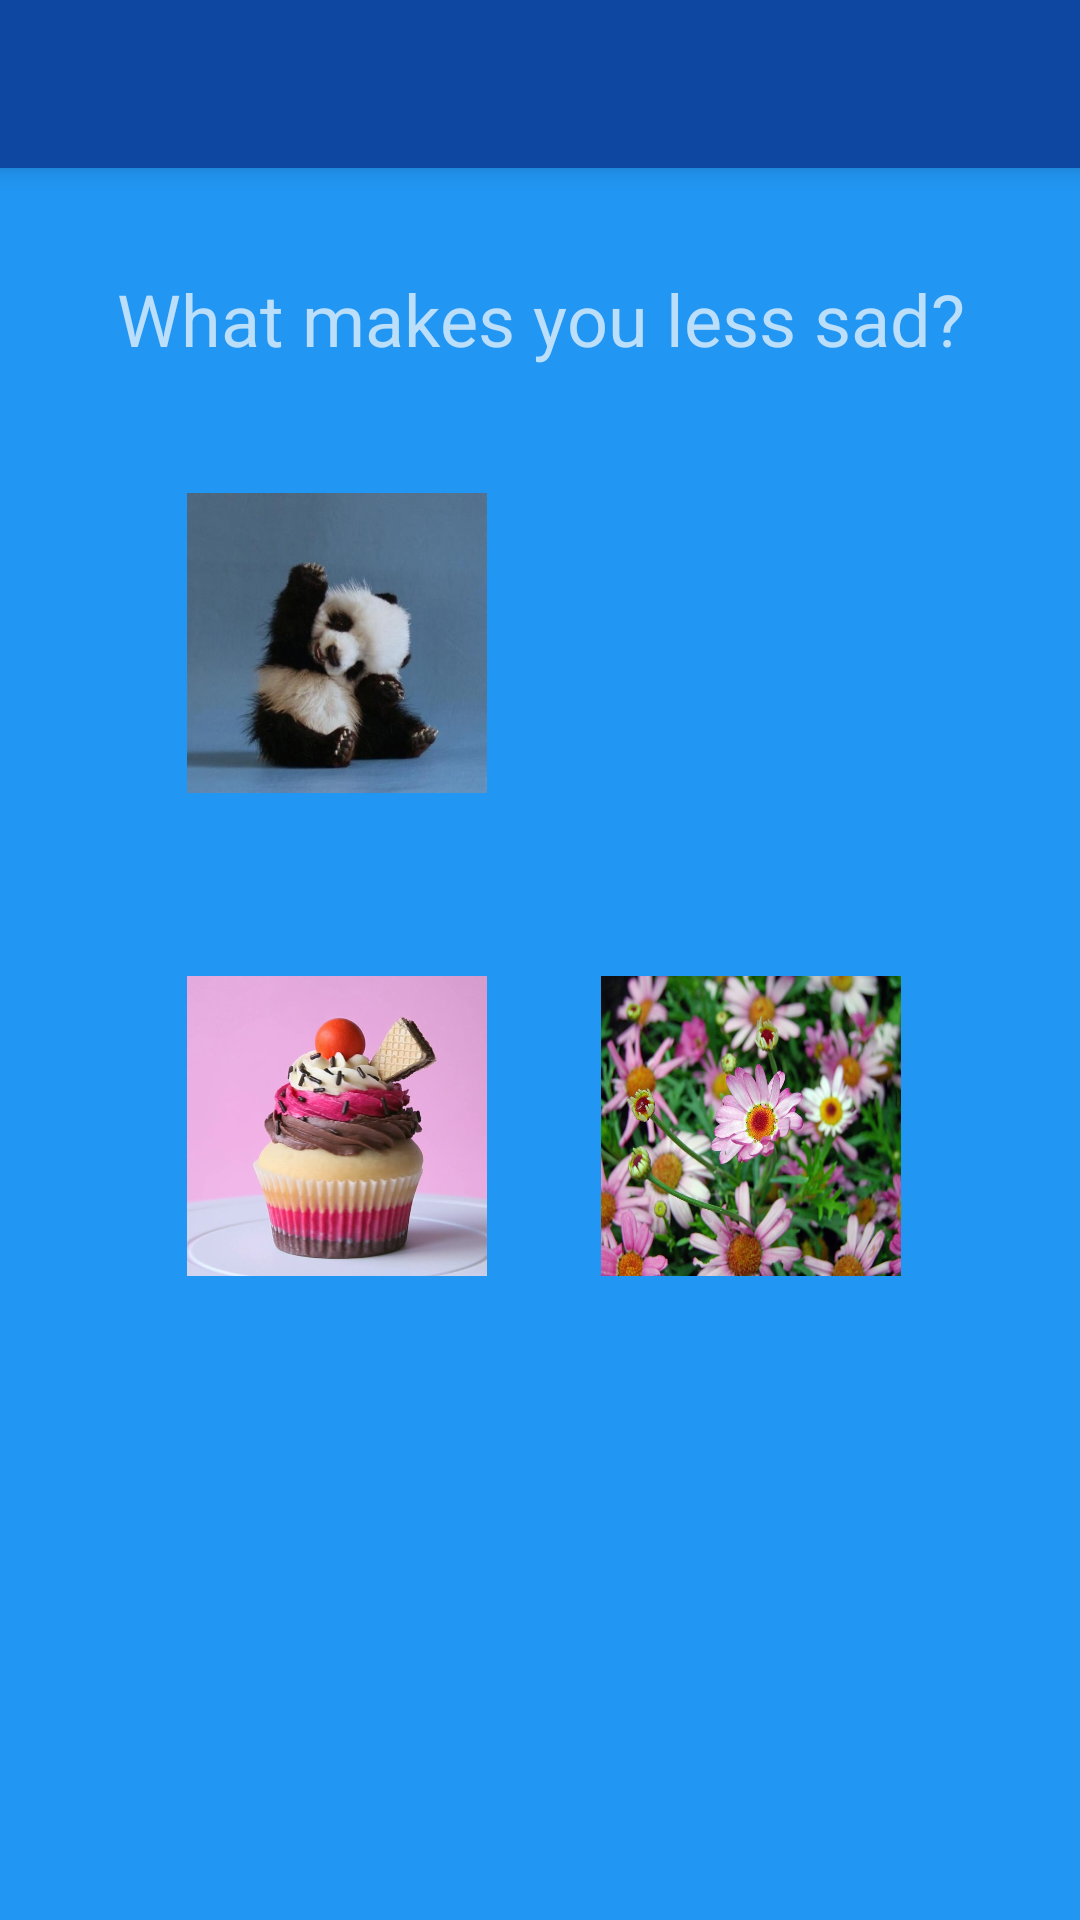

Icons on this 1080w x 1920h Android screen, each with its box as (x1, y1, x2, y2):
cupcake: (187, 976, 487, 1276)
flowers: (601, 976, 901, 1276)
panda: (187, 493, 487, 793)
